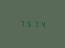five: (25, 19, 31, 27)
four: (39, 20, 45, 28)
seven: (18, 19, 24, 27), (32, 20, 38, 28)
